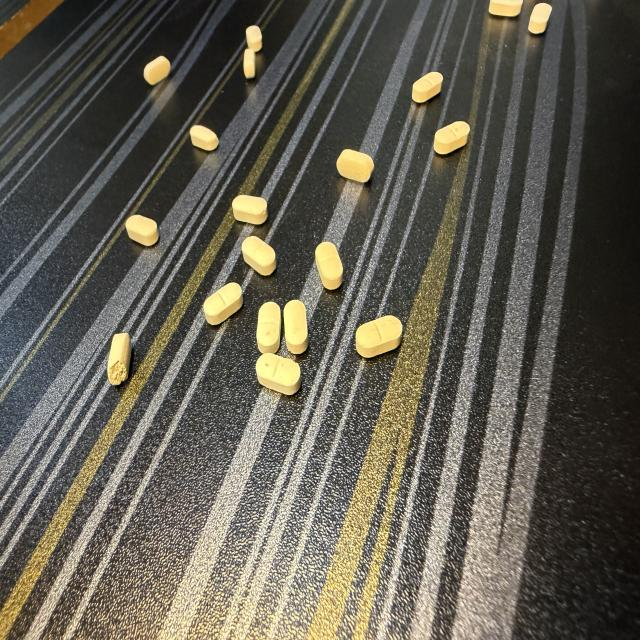pill: (356, 316, 402, 357), (256, 354, 300, 394), (204, 283, 243, 325), (242, 236, 276, 275), (284, 300, 308, 354), (315, 242, 342, 289), (257, 302, 281, 353), (337, 149, 374, 182), (434, 121, 469, 154), (108, 333, 130, 385), (232, 195, 267, 224), (126, 215, 158, 246), (412, 72, 443, 102), (144, 56, 170, 85), (190, 125, 218, 150), (529, 3, 551, 34), (489, 0, 522, 16), (246, 26, 262, 52), (244, 49, 255, 78)
